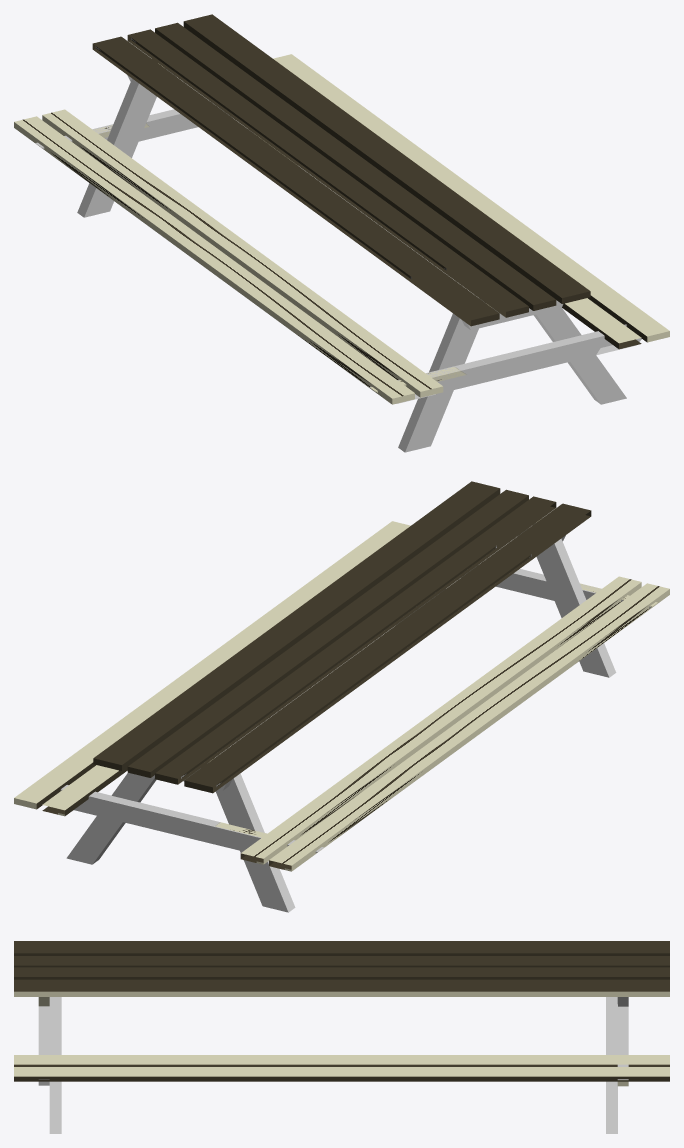
Rendered from lunch table.fbx.
3 views of the same model, one above another, from view 1: azimuth 30°, elevation 25°; view 2: azimuth 150°, elevation 25°; view 3: azimuth 270°, elevation 25° (orthographic). The views are drawn at different scales.
Visible parts, largest first — view 1: pCube14; view 2: pCube14; view 3: pCube14.
Boxes of the visible parts, box(x1,y1,x2,y2) form: pCube14: box(14, 14, 669, 452); pCube14: box(14, 481, 669, 912); pCube14: box(14, 941, 669, 1133).
Size of the model in its own units: 62.98 by 29.13 by 147.
Materials: 1 (1 with a texture image).
